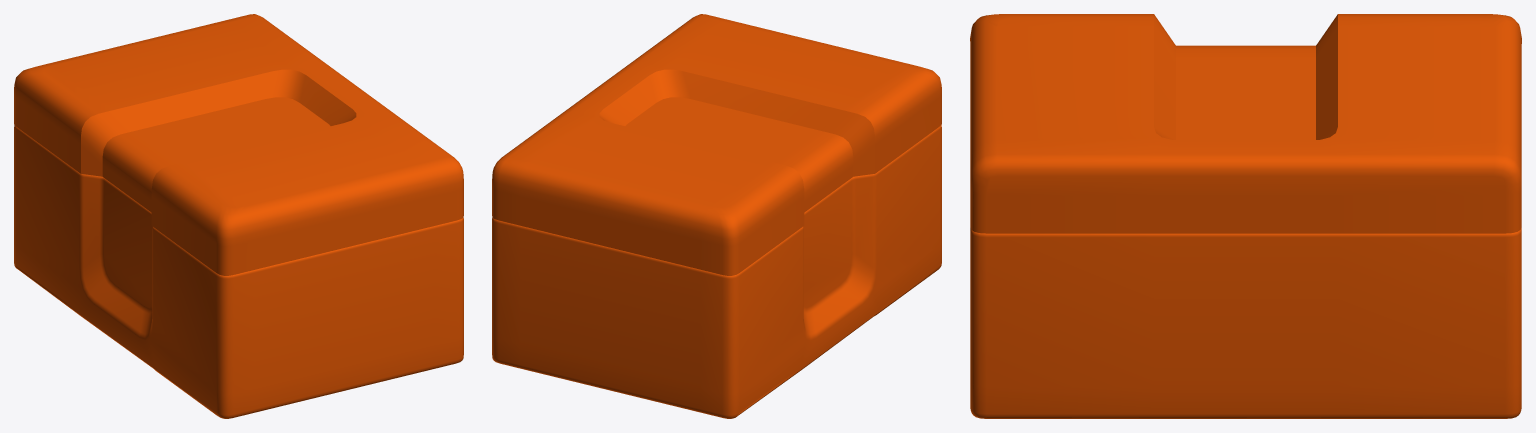
The picture shows the model from 3 angles, left to right: view 1: azimuth 30°, elevation 25°; view 2: azimuth 150°, elevation 25°; view 3: azimuth 270°, elevation 25°; orthographic projection. The views are drawn at different scales.
Parts seen in each view (by area): view 1: P003_002, P003_1; view 2: P003_002, P003_1; view 3: P003_002, P003_1.
Boxes of the visible parts, box(x1,y1,x2,y2) form: P003_002: box(14, 14, 463, 275); P003_1: box(14, 125, 463, 418); P003_002: box(492, 14, 941, 275); P003_1: box(492, 125, 941, 418); P003_002: box(970, 14, 1521, 233); P003_1: box(970, 228, 1521, 418).
Bounding box in the file's own units: 56.85 × 44.46 × 85.28.
